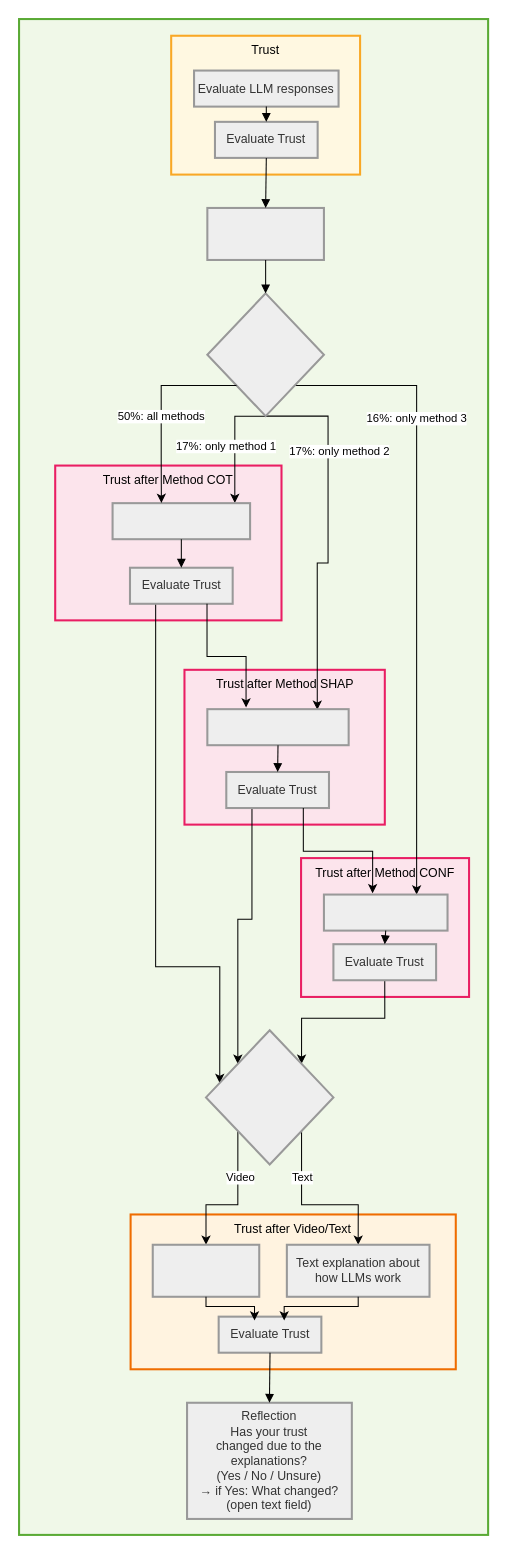
The diagram is 507 pixels wide and 1553 high, and some of its shapes have lost their labels. Each missing label, with the centre of its shape:
Do you know XAI? (Explainable AI): point (265, 233)
Format of the Explanation (random): point (269, 1097)
Randomization XAI Groups: point (265, 354)
Show XAI Method 3: point (385, 912)
Show XAI Method COT: point (181, 521)
Show XAI Method SHAP: point (277, 727)
Video about how LLMs work: point (205, 1270)
